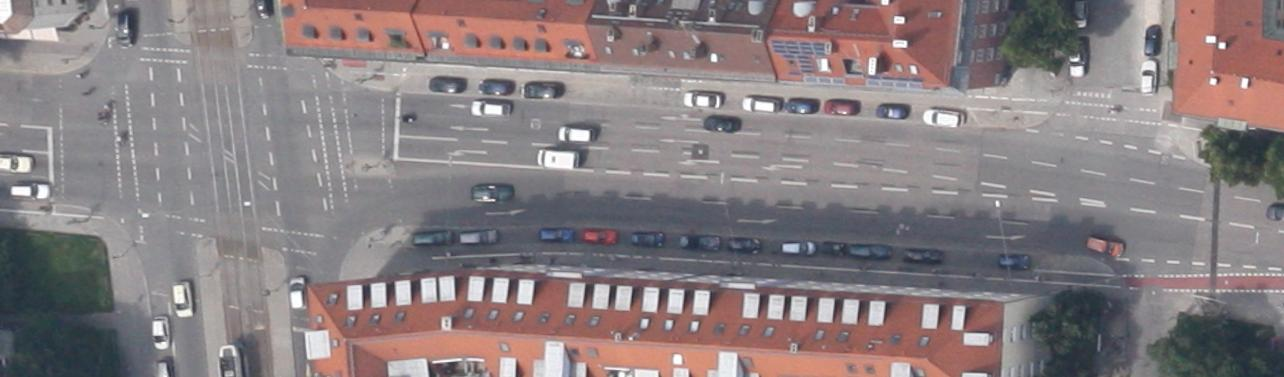car: (1086, 234, 1126, 258), (922, 108, 965, 128), (172, 280, 193, 318), (849, 243, 891, 261), (114, 12, 134, 48), (472, 184, 513, 201), (412, 230, 453, 247), (703, 115, 741, 133), (1069, 39, 1087, 77), (680, 234, 720, 251), (903, 248, 943, 265), (429, 76, 466, 94), (742, 96, 779, 114), (460, 228, 499, 245), (524, 81, 562, 98), (288, 276, 308, 308), (470, 100, 510, 116), (726, 236, 760, 254), (478, 79, 513, 96), (1140, 61, 1158, 94), (631, 230, 664, 248), (11, 184, 50, 199), (152, 316, 169, 350), (876, 102, 910, 119), (684, 93, 722, 108), (558, 127, 595, 142), (782, 240, 816, 256), (998, 253, 1030, 270), (1144, 25, 1162, 55), (825, 99, 860, 114), (785, 98, 818, 113), (539, 228, 574, 242), (582, 230, 617, 244), (820, 241, 844, 257), (1074, 2, 1088, 28)
